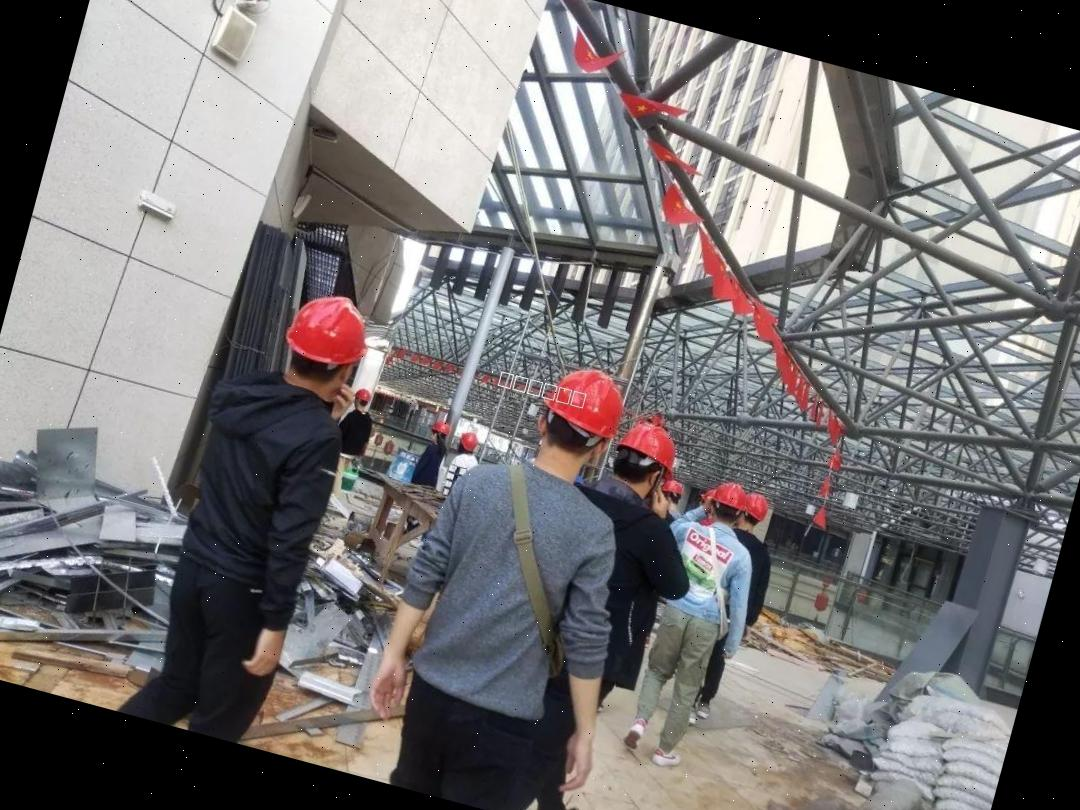helmet: (277, 281, 377, 372), (542, 359, 636, 448), (618, 410, 688, 476), (706, 477, 753, 516), (738, 490, 775, 526), (426, 416, 452, 439), (353, 384, 376, 408), (459, 426, 480, 450)
no_wear: (407, 468, 611, 726), (170, 361, 350, 597), (660, 516, 750, 624)
